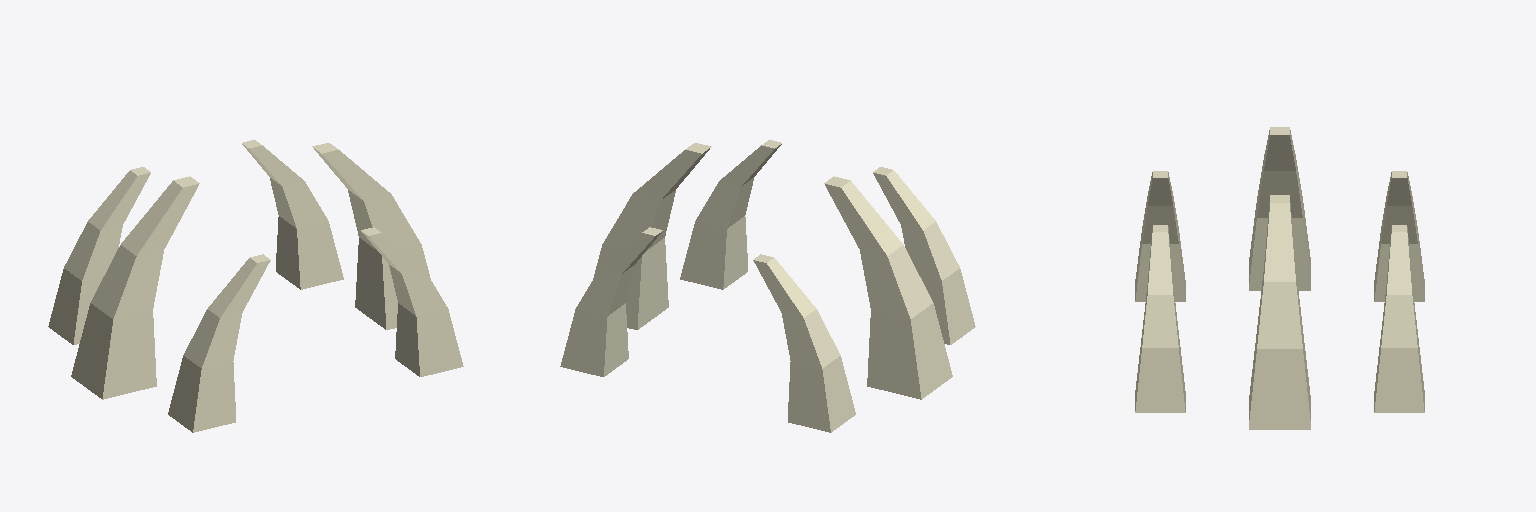
Rendered from alienBones.obj.
3 views of the same model, side by side, from view 1: azimuth 30°, elevation 25°; view 2: azimuth 150°, elevation 25°; view 3: azimuth 270°, elevation 25° (orthographic).
Parts seen in each view (by area): view 1: alienBones; view 2: alienBones; view 3: alienBones.
Boxes of the visible parts, box(x1,y1,x2,y2) form: alienBones: box(48, 140, 463, 432); alienBones: box(560, 140, 975, 432); alienBones: box(1135, 127, 1424, 429).
Bounding box in the file's own units: 8.61 × 4.42 × 6.38.